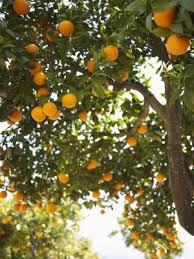orange: (164, 31, 190, 58), (60, 90, 79, 111), (55, 21, 74, 39), (103, 45, 118, 63), (31, 108, 47, 123), (43, 101, 57, 116), (34, 71, 48, 85), (126, 138, 140, 147)
